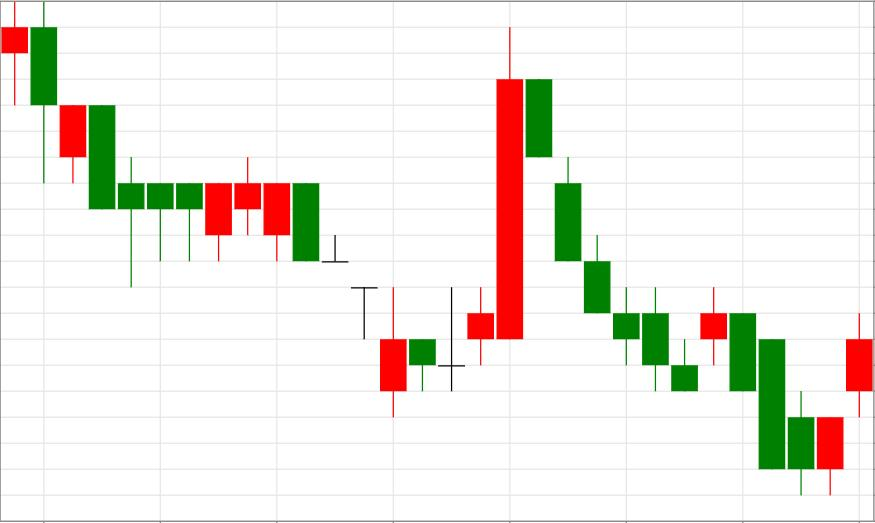three_black_crows_fall: (379, 27, 611, 417)
